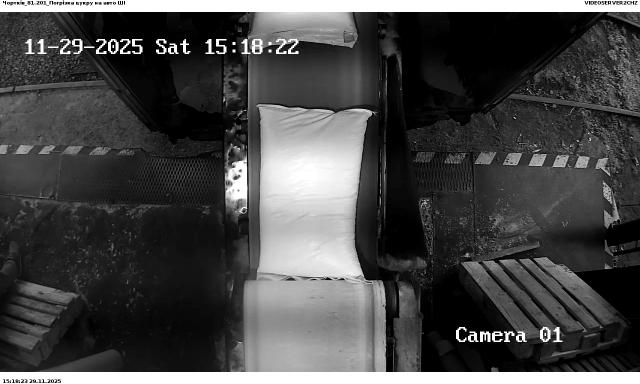bag: (257, 104, 374, 283), (248, 12, 359, 50)
